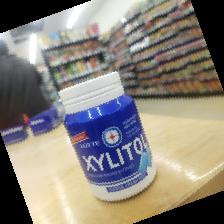Xylitol_blue: (57, 70, 157, 202)
